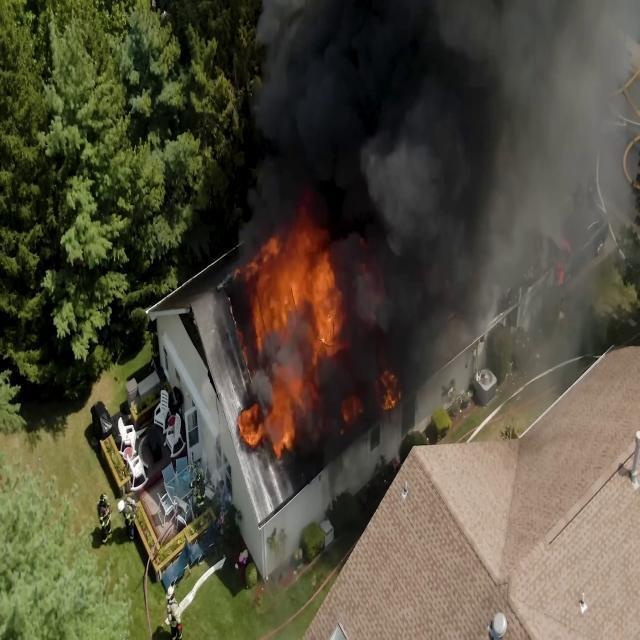Fire: (254, 197, 337, 337)
Smoke: (281, 0, 550, 191), (357, 18, 523, 326)
